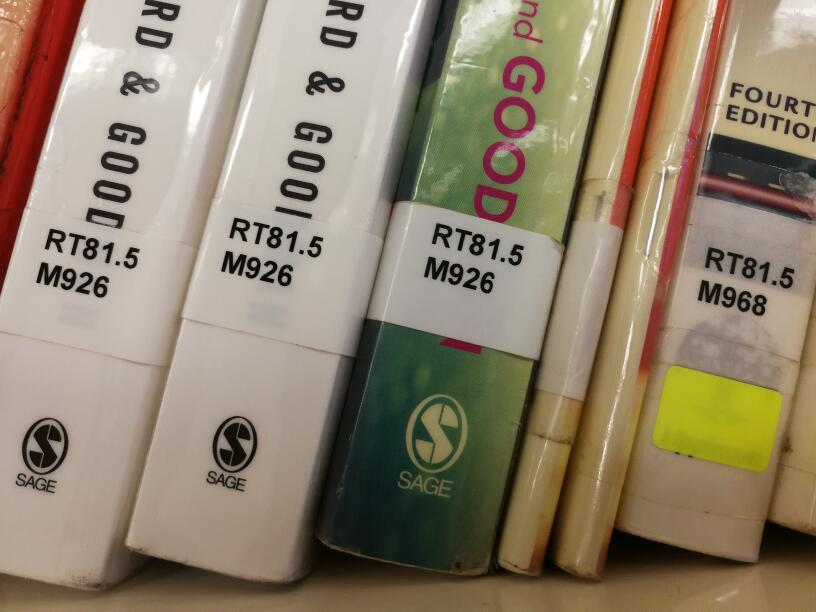booklabel: (30, 224, 144, 300), (418, 220, 527, 296), (216, 214, 327, 288), (693, 244, 798, 317)
